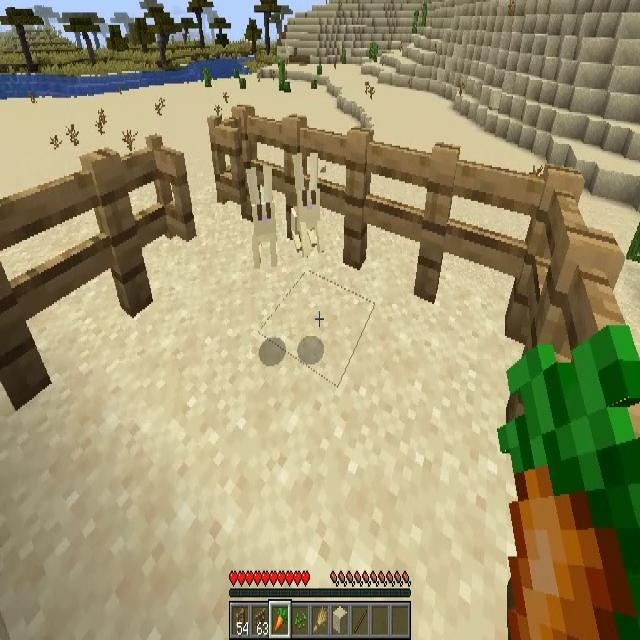rabbit: (287, 153, 326, 254), (248, 167, 280, 266)
